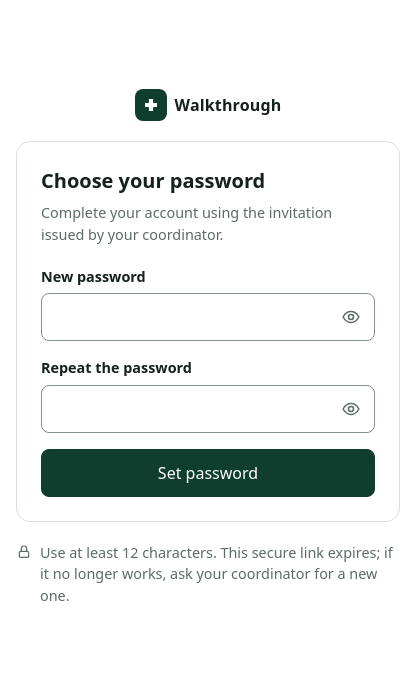
Test case: AcceptInvitationRoute › no muestra crudo el error de un código que no conoce
Type "correct horse battery" into the password field labelled "New password" at {"x": 208, "y": 317}, box [41,293,375,341]
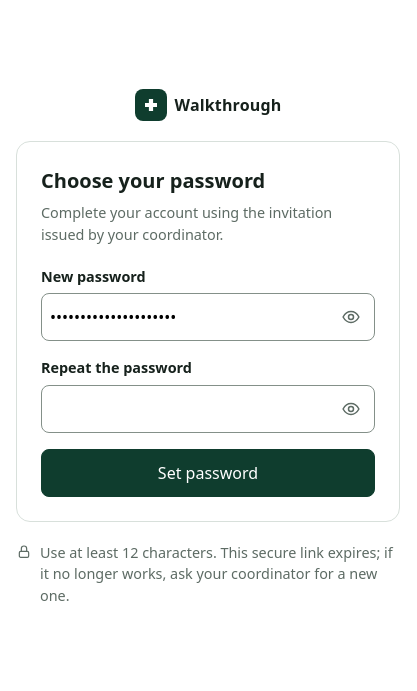
Type "correct horse battery" into the password field labelled "Repeat the password" at {"x": 208, "y": 409}, box [41,385,375,433]
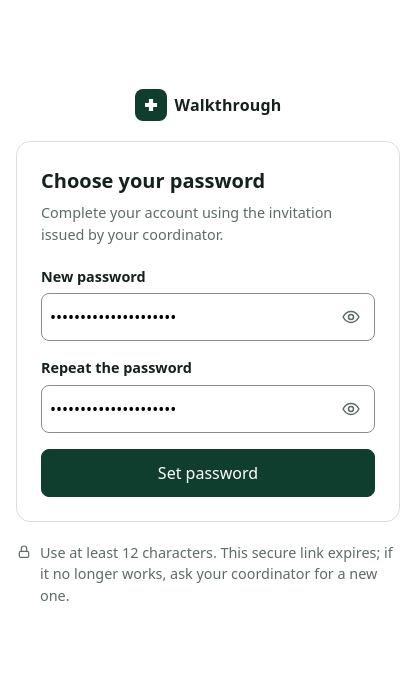
Click the button "Set password" at {"x": 208, "y": 473}, box [41,449,375,497]
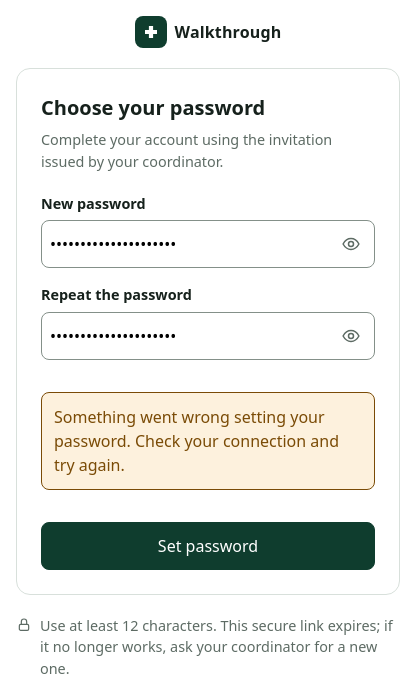
Result: the message shows "Something went wrong" at [54,406,339,476]
